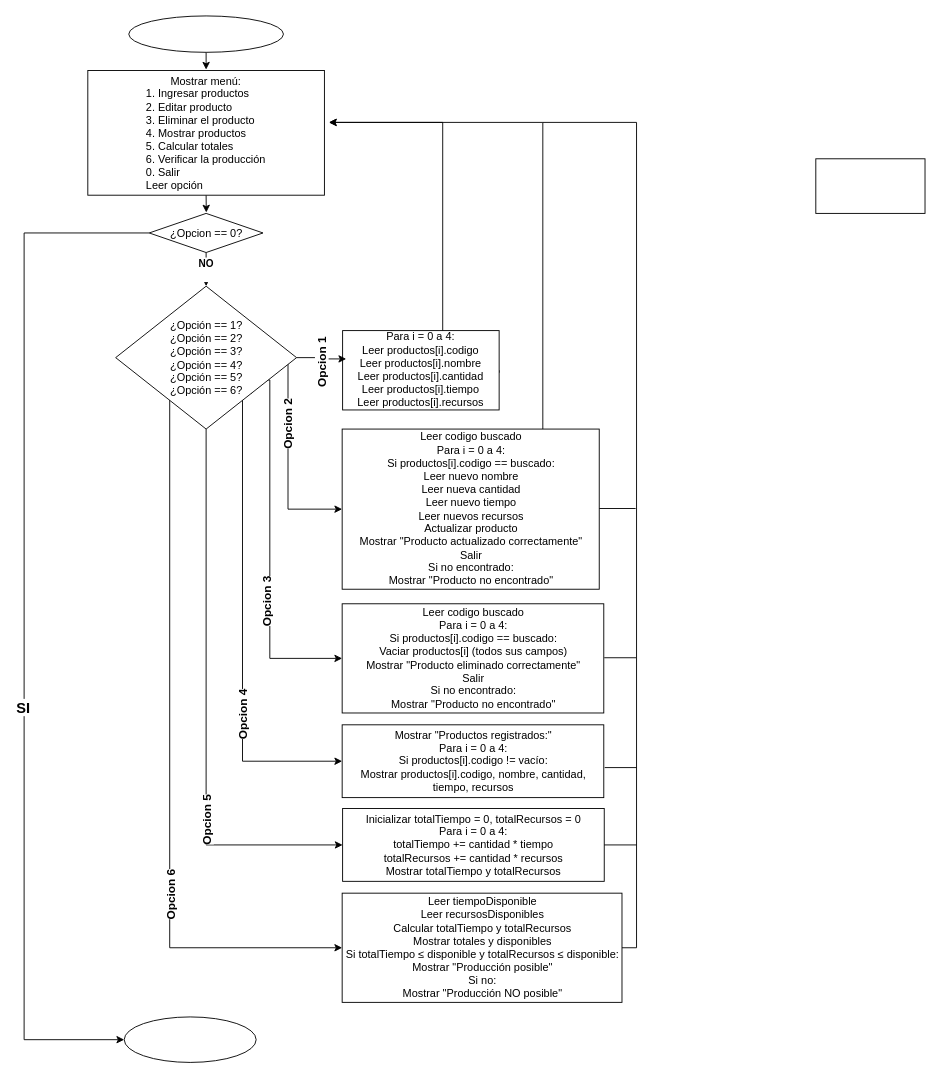
Image size: 941x1078. Some labels were removed from this diagram. Each missing label, with the box of its shape:
FIN: (123, 1016, 256, 1062)
INICIO: (128, 15, 283, 52)
